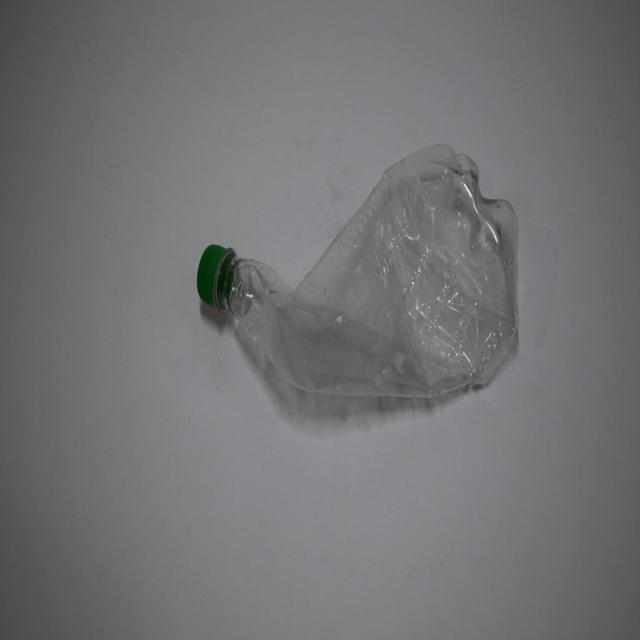bottle: (178, 136, 538, 424)
